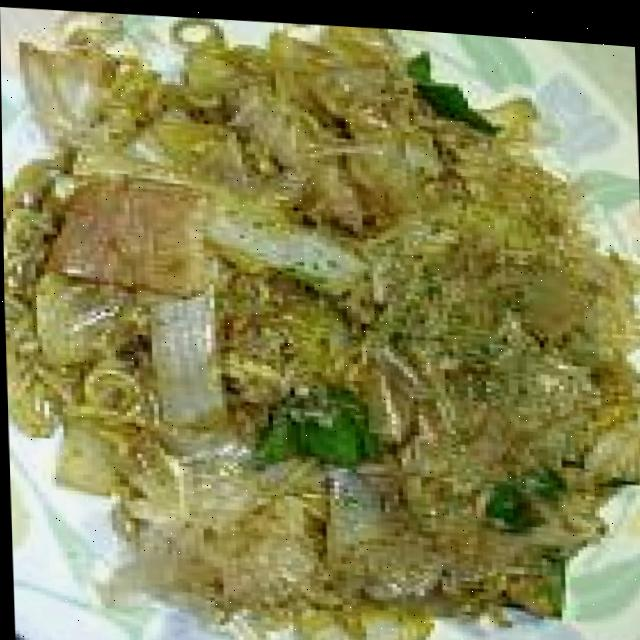面条主食: (4, 2, 626, 640)
